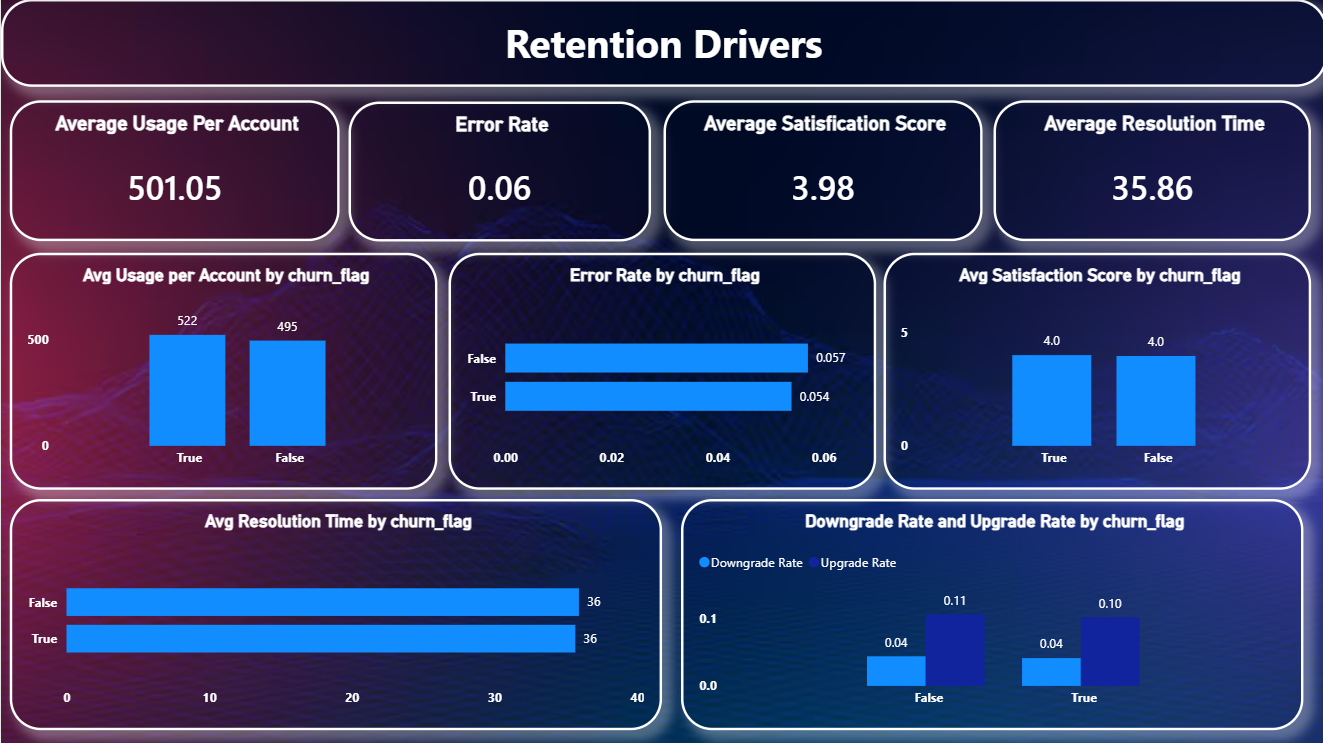

Layout of this report page (visuals, bound fields, positions):
{"tool":"powerbi","page":{"name":"RD","canvas":[1280,720],"ordinal":3},"visuals":[{"type":"textbox","box":[0,0,1280.3,85.1],"z":0},{"type":"cardVisual","title":"Average Usage Per Account","fields":{"Data":["ravenstack_accounts.Avg Usage per Account"]},"box":[8.4,97.7,318.5,136.3],"z":1},{"type":"cardVisual","title":"Error Rate","fields":{"Data":["ravenstack_accounts.Error Rate"]},"box":[335.4,98.9,292,135.1],"z":2},{"type":"cardVisual","title":"Average Satisfication Score","fields":{"Data":["ravenstack_support_tickets.Avg Satisfaction Score"]},"box":[639.4,97.7,307.6,136.3],"z":3},{"type":"cardVisual","title":"Average Resolution Time","fields":{"Data":["ravenstack_support_tickets.Avg Resolution Time"]},"box":[957.9,97.7,306.4,136.3],"z":4},{"type":"clusteredColumnChart","fields":{"Category":["ravenstack_accounts.churn_flag"],"Y":["ravenstack_accounts.Avg Usage per Account"]},"box":[8.4,244.9,413,229.2],"z":5},{"type":"barChart","fields":{"Category":["ravenstack_accounts.churn_flag"],"Y":["ravenstack_accounts.Error Rate"]},"box":[431.9,244.9,413,229.2],"z":6},{"type":"columnChart","fields":{"Category":["ravenstack_accounts.churn_flag"],"Y":["ravenstack_support_tickets.Avg Satisfaction Score"]},"box":[851.7,244.9,413,229.2],"z":7},{"type":"clusteredBarChart","fields":{"Category":["ravenstack_accounts.churn_flag"],"Y":["ravenstack_support_tickets.Avg Resolution Time"]},"box":[8.4,482.6,629.8,223.2],"z":8},{"type":"clusteredColumnChart","fields":{"Category":["ravenstack_accounts.churn_flag"],"Y":["ravenstack_subscriptions.Downgrade Rate","ravenstack_subscriptions.Upgrade Rate"]},"box":[656.3,482.6,600.8,223.2],"z":9}]}

Visuals, with their boxes in screenshot pixels (x1, y1, x2, y2), scaled from the page's 1280x720 canvas onto the 1323x743 screenshot:
textbox: 0, 0, 1322, 88
"Average Usage Per Account" cardVisual: 9, 101, 338, 241
"Error Rate" cardVisual: 347, 102, 648, 241
"Average Satisfication Score" cardVisual: 661, 101, 979, 241
"Average Resolution Time" cardVisual: 990, 101, 1307, 241
clusteredColumnChart - ravenstack_accounts.churn_flag x ravenstack_accounts.Avg Usage per Account: 9, 253, 436, 489
barChart - ravenstack_accounts.churn_flag x ravenstack_accounts.Error Rate: 446, 253, 873, 489
columnChart - ravenstack_accounts.churn_flag x ravenstack_support_tickets.Avg Satisfaction Score: 880, 253, 1307, 489
clusteredBarChart - ravenstack_accounts.churn_flag x ravenstack_support_tickets.Avg Resolution Time: 9, 498, 660, 728
clusteredColumnChart - ravenstack_accounts.churn_flag x ravenstack_subscriptions.Downgrade Rate: 678, 498, 1299, 728
